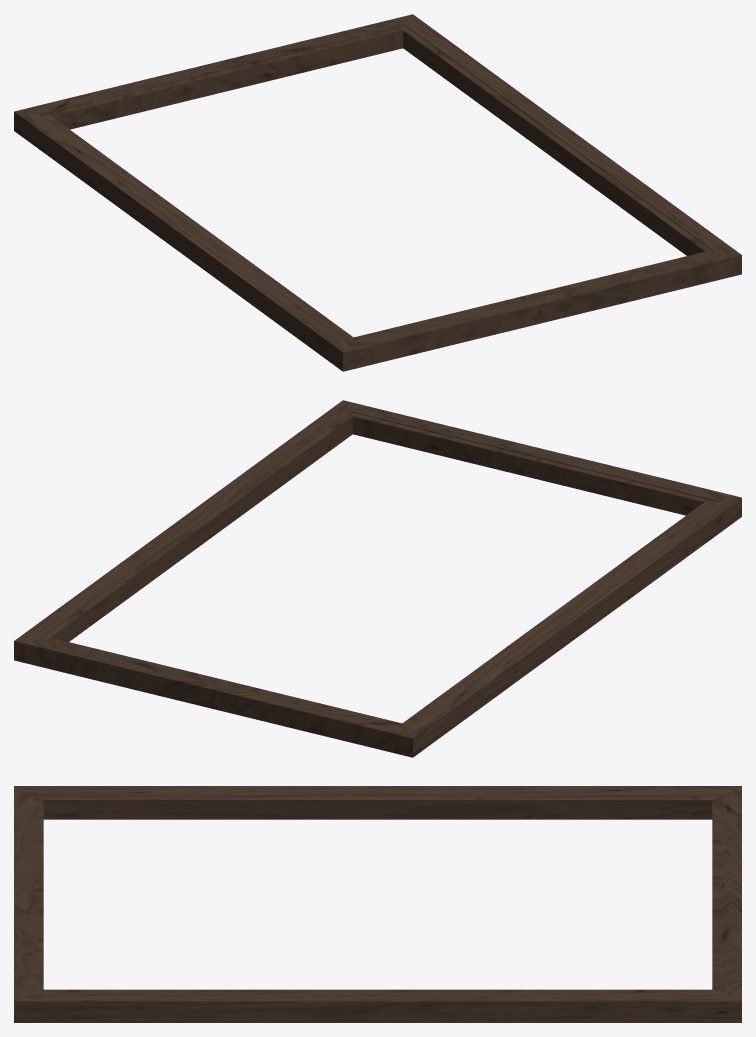
File: Raam100x70-donkerbruin.dae
The picture shows the model from 3 angles, top to bottom: view 1: azimuth 30°, elevation 25°; view 2: azimuth 150°, elevation 25°; view 3: azimuth 270°, elevation 25°; orthographic projection. The views are drawn at different scales.
Visible parts, largest first — view 1: Raam_geo; view 2: Raam_geo; view 3: Raam_geo.
Part boxes in pixels (box(x1,y1,x2,y2)): Raam_geo: box(14, 14, 741, 371); Raam_geo: box(14, 400, 741, 757); Raam_geo: box(14, 786, 741, 1022).
Bounding box in the file's own units: 70 × 3.25 × 100.
1 material, 1 textured.
